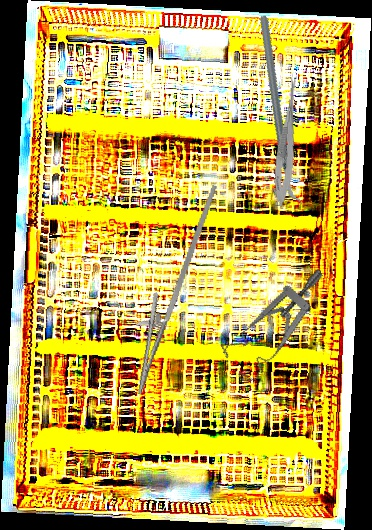Chopper: (214, 13, 347, 207)
Micro Scissor: (271, 72, 302, 207)
Needle Holder: (119, 175, 219, 401)
Speculum: (207, 266, 352, 389)
